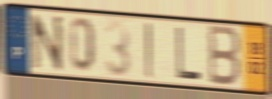0: (67, 15, 97, 76)
3: (104, 17, 132, 78)
B: (207, 22, 243, 89)
I: (144, 21, 156, 81)
L: (174, 25, 203, 82)
N: (29, 12, 65, 73)
